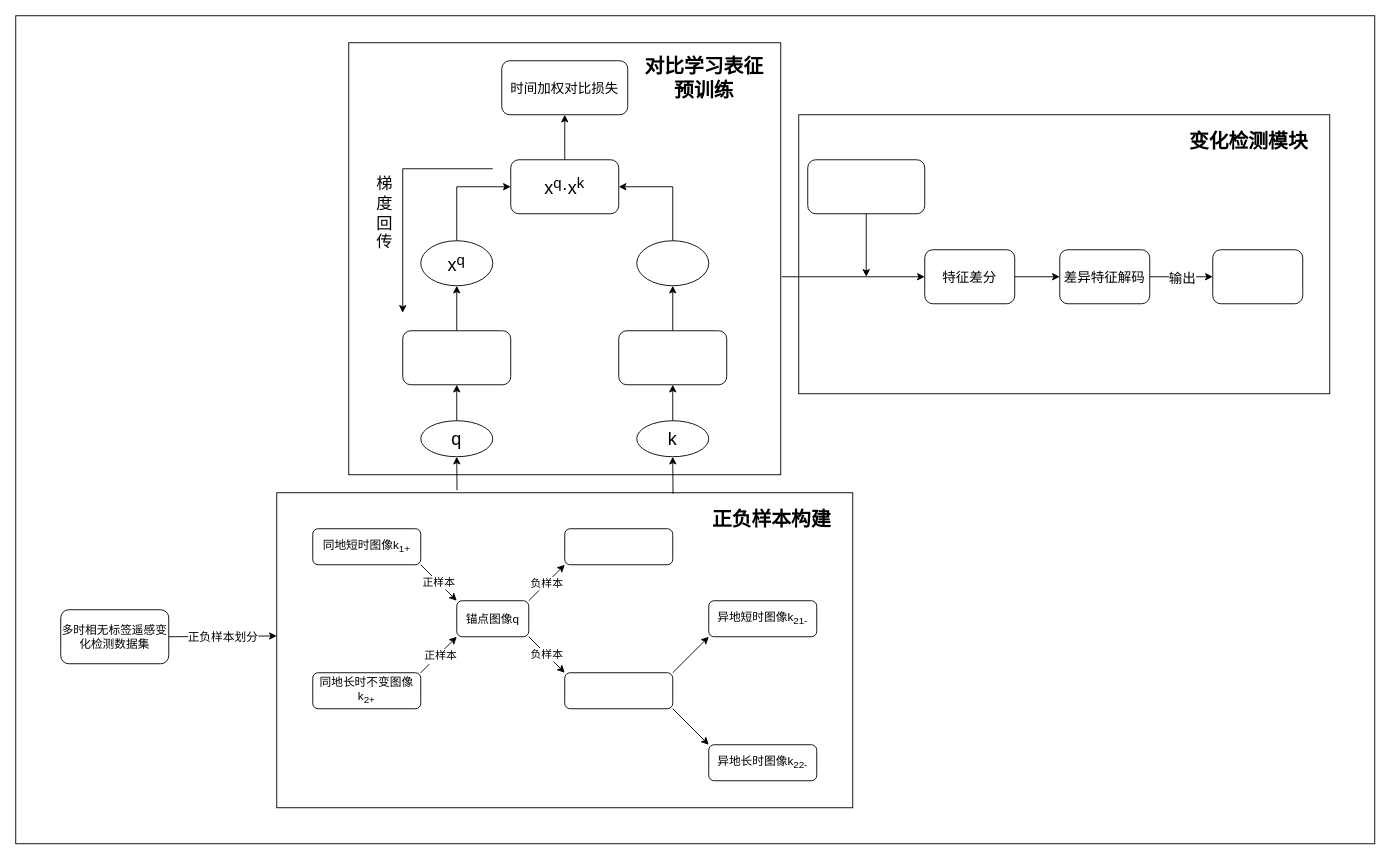
Some shapes in this 1391 by 860 pixel diagram are drawn without their labels. The shapes that lost their labels are listed below. From the top down, each one's centre as x and y in pixels, then its label:
At pixel 866 186: "变化检测测试样例".
At pixel 672 263: "x k".
At pixel 1257 276: "变化图".
At pixel 456 357: "q编码器".
At pixel 672 357: "k编码器".
At pixel 618 546: "同地长时变化图像k 1-".
At pixel 618 690: "异地图像k 2 -".
